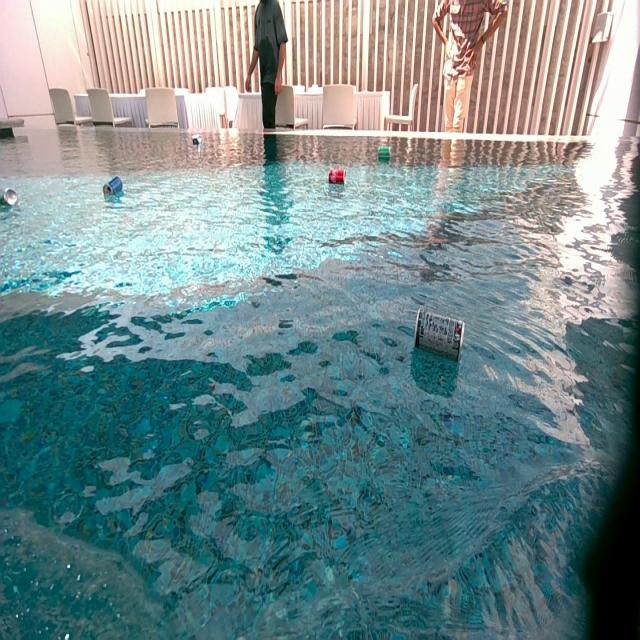Cans: (414, 310, 464, 365), (102, 176, 123, 198), (2, 186, 16, 206), (329, 170, 346, 186), (378, 145, 391, 158), (191, 136, 199, 146)
